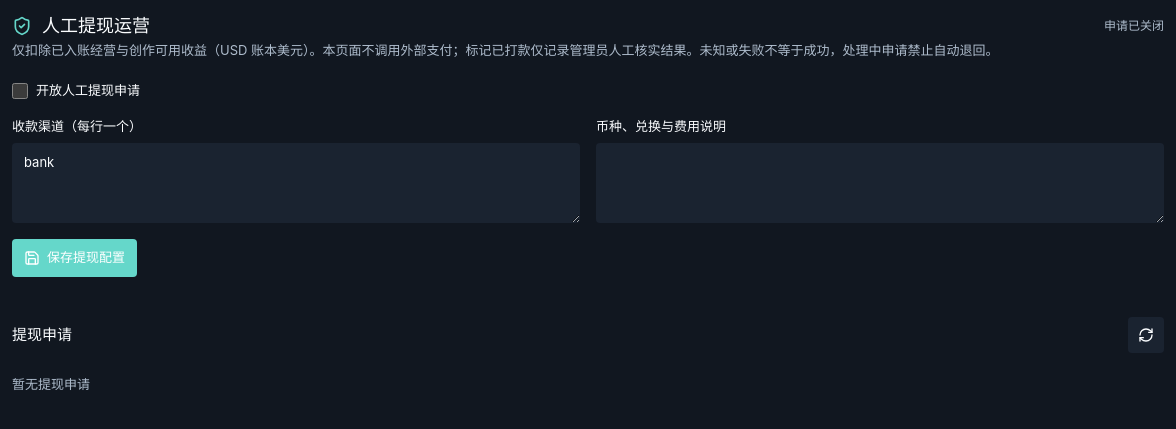
Scenario: WithdrawalAdminPanel › does not report an unsaved switch as enabled and confirms a successful save
Click the checkbox labelled "开放人工提现申请" at coordinates (20, 91), box [12, 83, 28, 99]
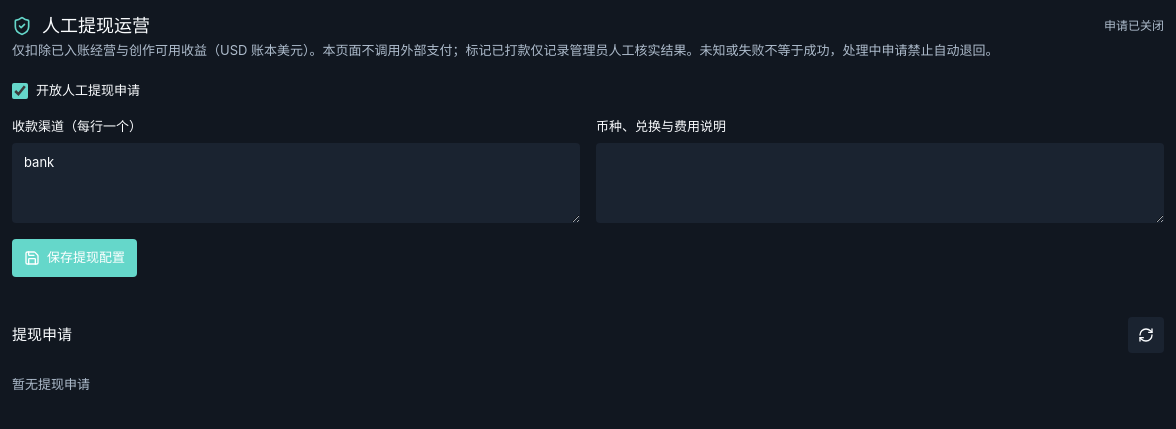
Expected: the text "申请已关闭" is shown, [1104, 16, 1164, 34]
Submit the form, box [12, 81, 1164, 297]
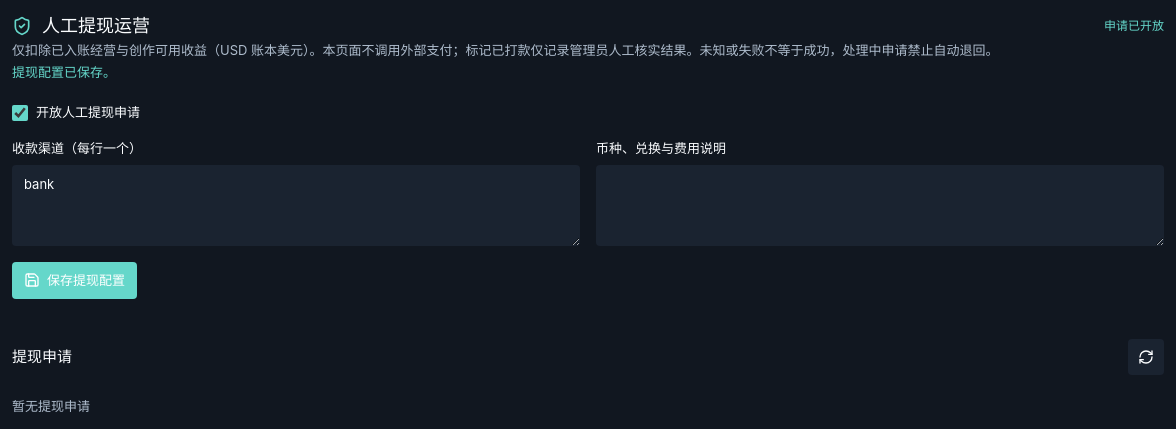
Now the text "申请已开放" is shown, box [1104, 16, 1164, 34]
Now the message "提现配置已保存。" is shown, box [12, 64, 116, 80]
